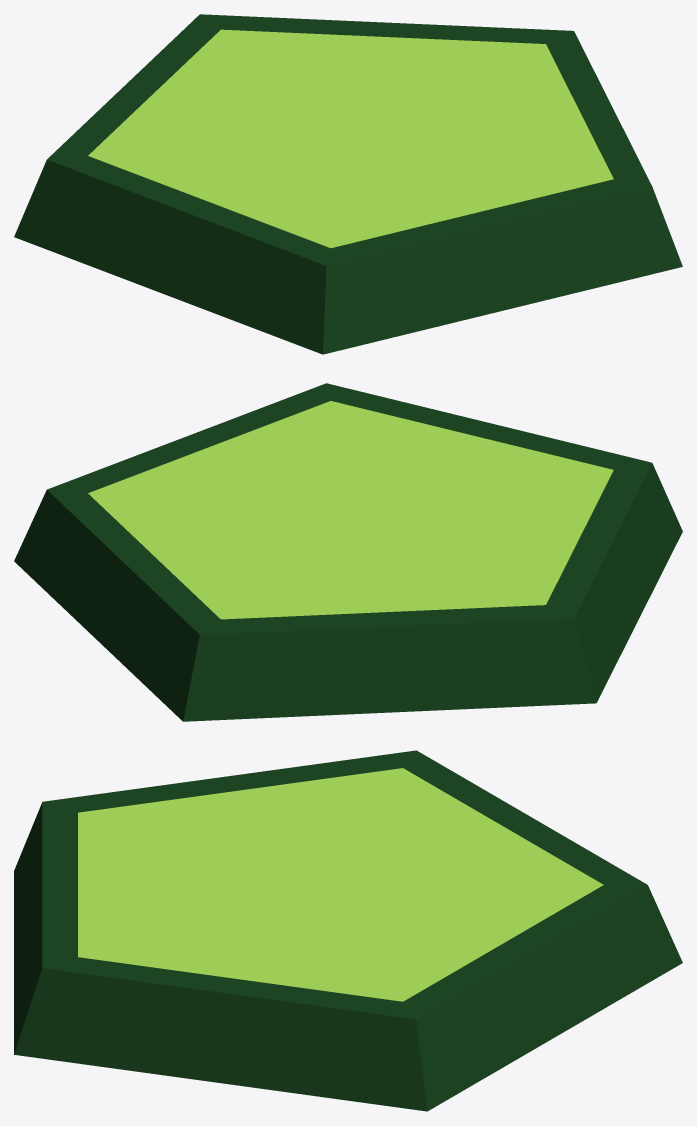
File: pickels.fbx
The picture shows the model from 3 angles, top to bottom: view 1: azimuth 30°, elevation 25°; view 2: azimuth 150°, elevation 25°; view 3: azimuth 270°, elevation 25°; orthographic projection. The views are drawn at different scales.
Parts seen in each view (by area): view 1: Cylinder; view 2: Cylinder; view 3: Cylinder.
Part boxes in pixels (x1=…): Cylinder: x1=14, y1=14, x2=682, y2=354; Cylinder: x1=14, y1=383, x2=682, y2=721; Cylinder: x1=14, y1=750, x2=682, y2=1111.
Size of the model in its own units: 190 by 23.28 by 181.
